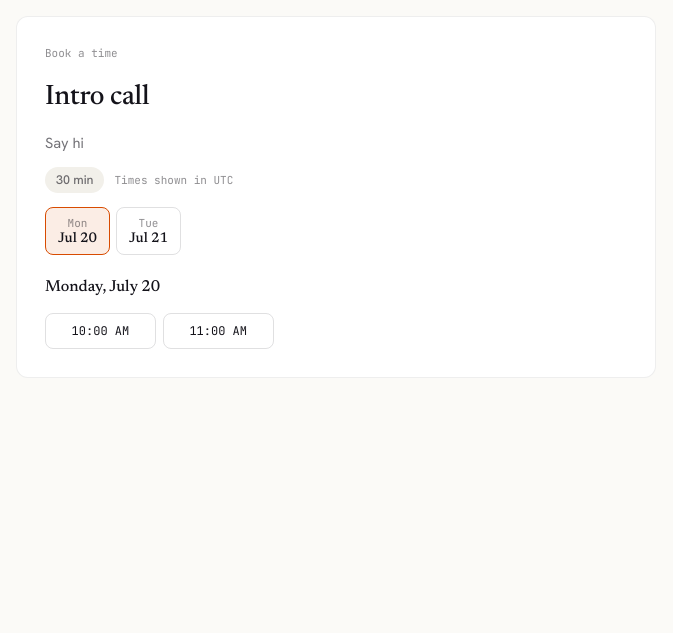
it: <BookingPage> › books a slot end-to-end: pick, confirm, done
Expected: the heading "Intro call" is shown, [45,82,149,110]
Click the button with class "slot-btn" showing "10:00 AM" at (100, 331), box [45,313,156,349]
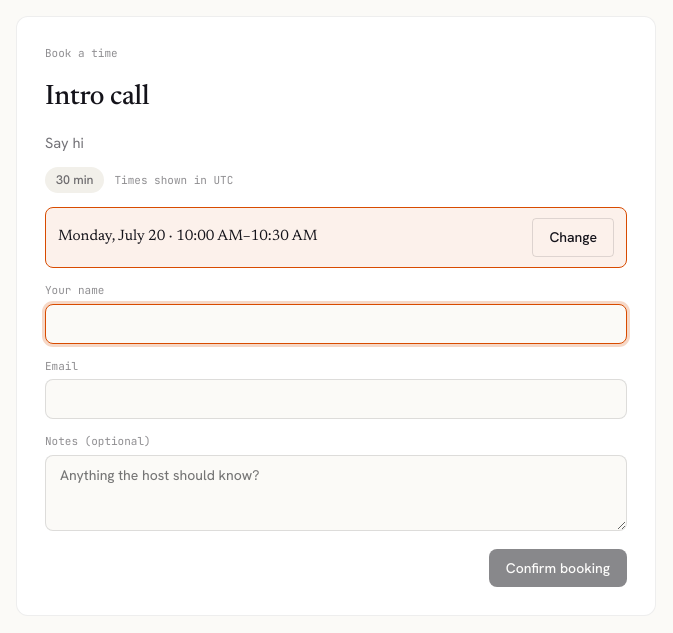
Type "Ada" into the field labelled "Your name" at (336, 324), box [45,304,627,344]
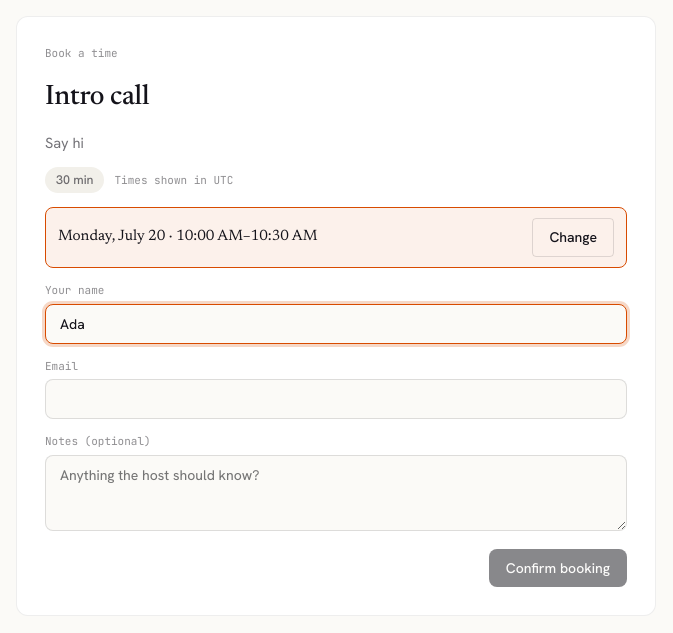
Type "ada@example.com" into the field labelled "Email" at (336, 399), box [45,379,627,419]
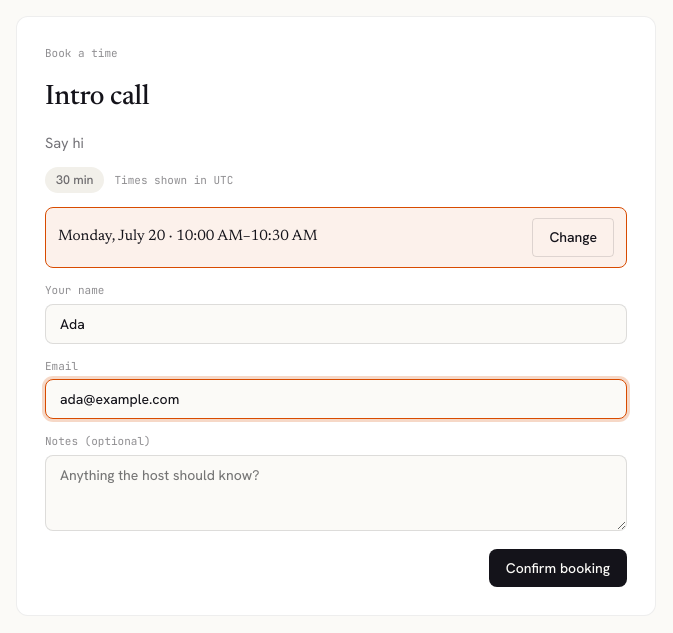
Click the button "Confirm booking" at (558, 568), box [489,548,627,587]
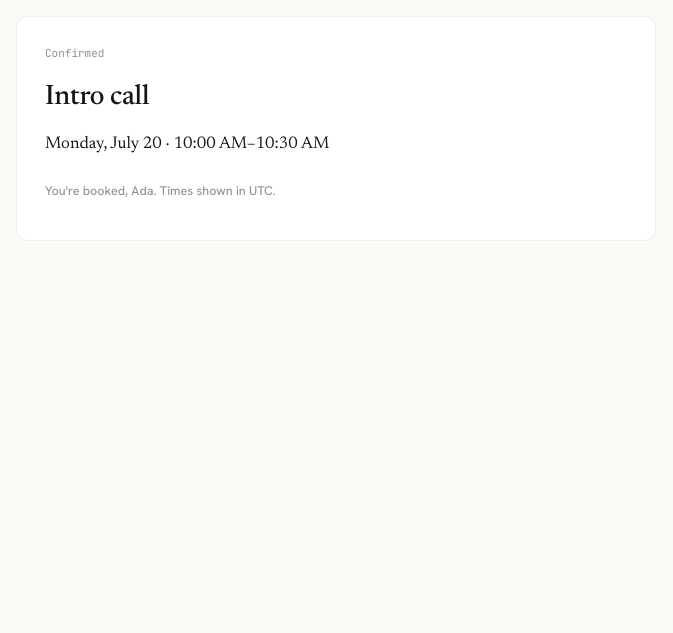
Now the text "You're booked, Ada. Times shown in UTC." is shown, box [45,182,276,199]
